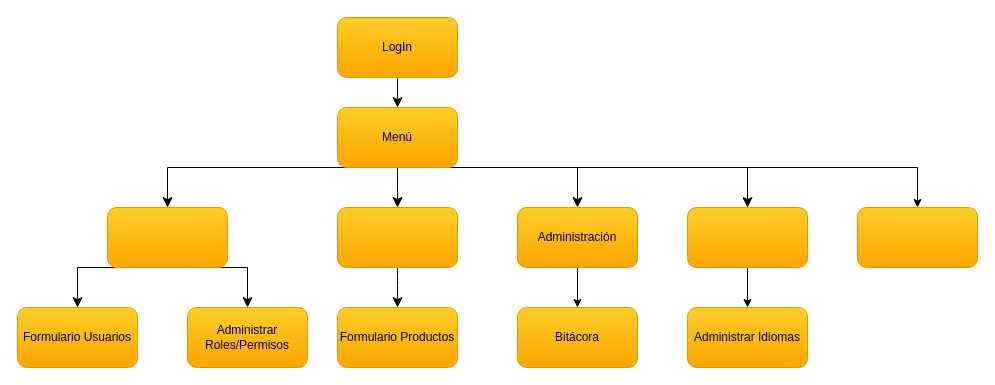
This 995x385 diagram has some shape labels left out. The centre of each missing label's shape, as x and y in pixels:
"BackUp" belongs at [917,237].
"Gestión Idioma" belongs at [747,237].
"Gestión Productos" belongs at [397,237].
"Gestión Usuarios" belongs at [167,237].
